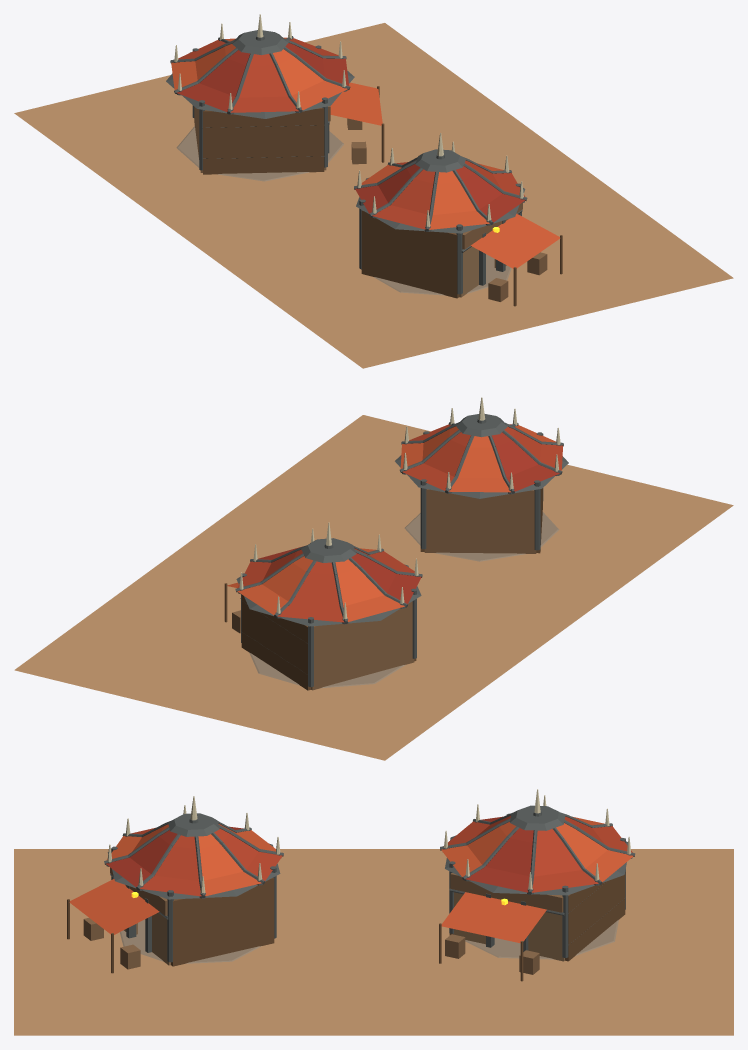
The picture shows the model from 3 angles, top to bottom: view 1: azimuth 30°, elevation 25°; view 2: azimuth 150°, elevation 25°; view 3: azimuth 270°, elevation 25°; orthographic projection. The views are drawn at different scales.
Visible parts, largest first — view 1: Solid_ValleyStrength_sand, Solid_LowerWard_0_wood, Detail_LowerWard_0_red2, Detail_LowerWard_0_iron, Detail_LowerWard_0_red3, Detail_LowerWard_0_red, Solid_LowerWard_0_stone, Solid_LowerWard_0_wood2, Detail_LowerWard_0_ivory, Solid_LowerWard_0_wood3; view 2: Solid_ValleyStrength_sand, Solid_LowerWard_0_wood2, Detail_LowerWard_0_iron, Detail_LowerWard_0_red2, Detail_LowerWard_0_red, Solid_LowerWard_0_wood, Detail_LowerWard_0_red3, Solid_LowerWard_0_stone, Detail_LowerWard_0_ivory; view 3: Solid_ValleyStrength_sand, Detail_LowerWard_0_red2, Solid_LowerWard_0_wood, Detail_LowerWard_0_iron, Detail_LowerWard_0_red, Detail_LowerWard_0_red3, Solid_LowerWard_0_wood2, Solid_LowerWard_0_wood3, Solid_LowerWard_0_stone, Detail_LowerWard_0_ivory, Solid_LowerWard_0_iron, Detail_LowerWard_0_wood.
Part boxes in pixels (x1,y1,x2,y2): Solid_ValleyStrength_sand: [14, 23, 733, 368]; Solid_LowerWard_0_wood: [203, 107, 459, 298]; Detail_LowerWard_0_red2: [171, 37, 560, 268]; Detail_LowerWard_0_iron: [166, 30, 527, 294]; Detail_LowerWard_0_red3: [177, 43, 525, 222]; Detail_LowerWard_0_red: [178, 38, 525, 229]; Solid_LowerWard_0_stone: [176, 126, 511, 295]; Solid_LowerWard_0_wood2: [194, 106, 547, 301]; Detail_LowerWard_0_ivory: [174, 14, 523, 227]; Solid_LowerWard_0_wood3: [324, 167, 506, 297]; Solid_ValleyStrength_sand: [14, 415, 733, 760]; Solid_LowerWard_0_wood2: [232, 489, 536, 690]; Detail_LowerWard_0_iron: [235, 414, 568, 687]; Detail_LowerWard_0_red2: [227, 425, 555, 621]; Detail_LowerWard_0_red: [237, 424, 562, 622]; Solid_LowerWard_0_wood: [241, 488, 542, 690]; Detail_LowerWard_0_red3: [258, 424, 559, 603]; Solid_LowerWard_0_stone: [249, 512, 559, 688]; Detail_LowerWard_0_ivory: [239, 397, 560, 619]; Solid_ValleyStrength_sand: [14, 849, 733, 1035]; Detail_LowerWard_0_red2: [69, 816, 633, 943]; Solid_LowerWard_0_wood: [171, 872, 625, 966]; Detail_LowerWard_0_iron: [104, 805, 635, 962]; Detail_LowerWard_0_red: [131, 815, 632, 896]; Detail_LowerWard_0_red3: [106, 816, 533, 892]; Solid_LowerWard_0_wood2: [83, 867, 563, 974]; Solid_LowerWard_0_wood3: [124, 892, 564, 965]; Solid_LowerWard_0_stone: [119, 919, 618, 963]; Detail_LowerWard_0_ivory: [107, 789, 631, 893]; Solid_LowerWard_0_iron: [126, 885, 528, 952]; Detail_LowerWard_0_wood: [67, 899, 523, 981].
Bounding box in the file's own units: 27 × 9.15 × 44.
